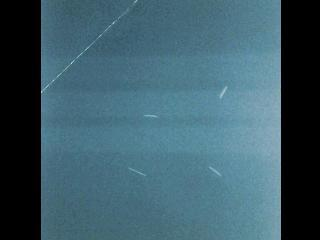crack: (41, 0, 138, 94)
scratch: (124, 160, 152, 184), (203, 161, 228, 182), (212, 82, 233, 103), (140, 109, 162, 125)
